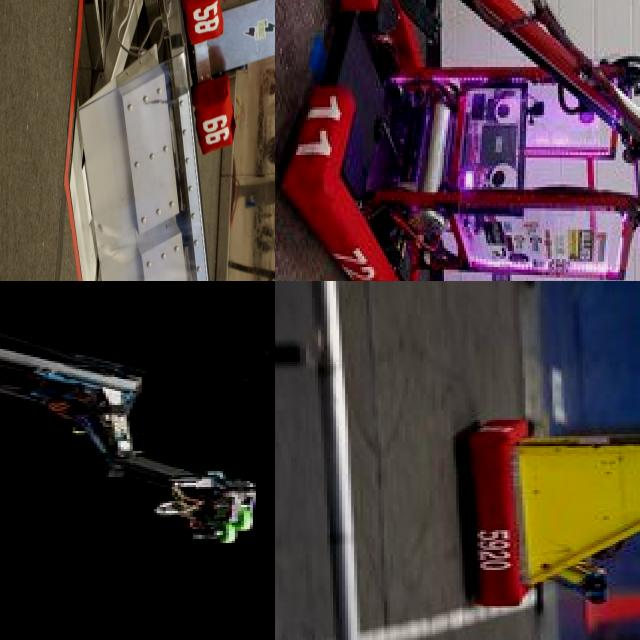FRC-Robots: (278, 0, 640, 281), (0, 281, 275, 550), (422, 376, 640, 629), (141, 0, 275, 142)
